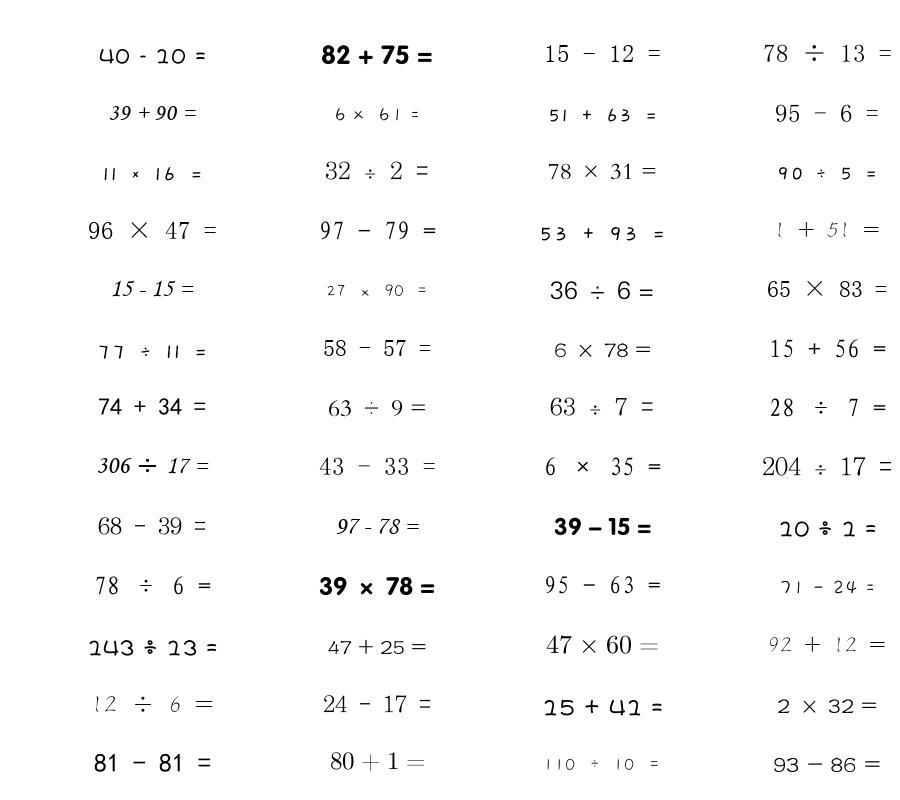MQ: (762, 456, 892, 476), (763, 44, 892, 62), (88, 221, 217, 239), (319, 576, 435, 596), (321, 45, 433, 65), (319, 221, 436, 240), (769, 339, 886, 358), (769, 398, 886, 417), (544, 457, 661, 476), (94, 576, 211, 595), (94, 753, 211, 772), (546, 635, 659, 654), (319, 457, 436, 475), (544, 576, 661, 594), (87, 640, 218, 656), (91, 696, 213, 713), (542, 699, 663, 716), (767, 280, 887, 297), (544, 45, 661, 62), (325, 161, 429, 180), (550, 281, 654, 300), (550, 397, 654, 416), (98, 517, 206, 535), (323, 695, 431, 713), (96, 457, 209, 474), (330, 752, 425, 772), (768, 637, 886, 653), (775, 104, 879, 122), (548, 163, 657, 180), (554, 517, 651, 536), (98, 398, 206, 415), (538, 227, 666, 241), (323, 340, 431, 356), (99, 48, 206, 64), (774, 222, 880, 238), (328, 400, 427, 417), (773, 757, 881, 772), (778, 521, 877, 537), (328, 639, 426, 655), (547, 108, 658, 122), (97, 345, 208, 359), (543, 758, 661, 771), (779, 580, 875, 595), (110, 280, 194, 297), (102, 167, 203, 181), (777, 699, 877, 713), (554, 343, 651, 357), (335, 518, 419, 534), (776, 167, 878, 180), (326, 284, 428, 297), (108, 106, 196, 120), (334, 108, 420, 122)
